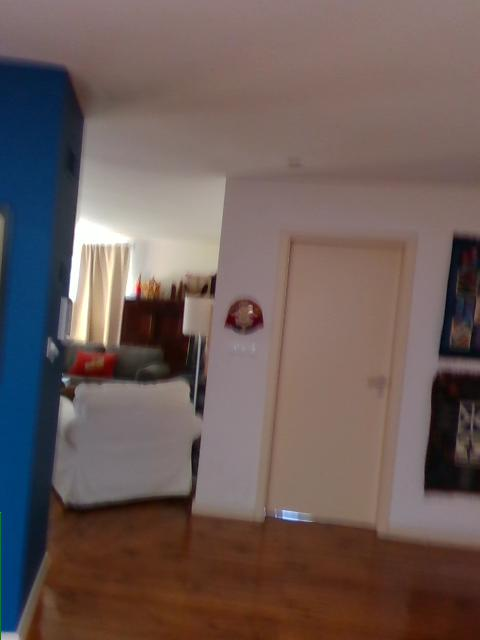door: (264, 227, 419, 538)
